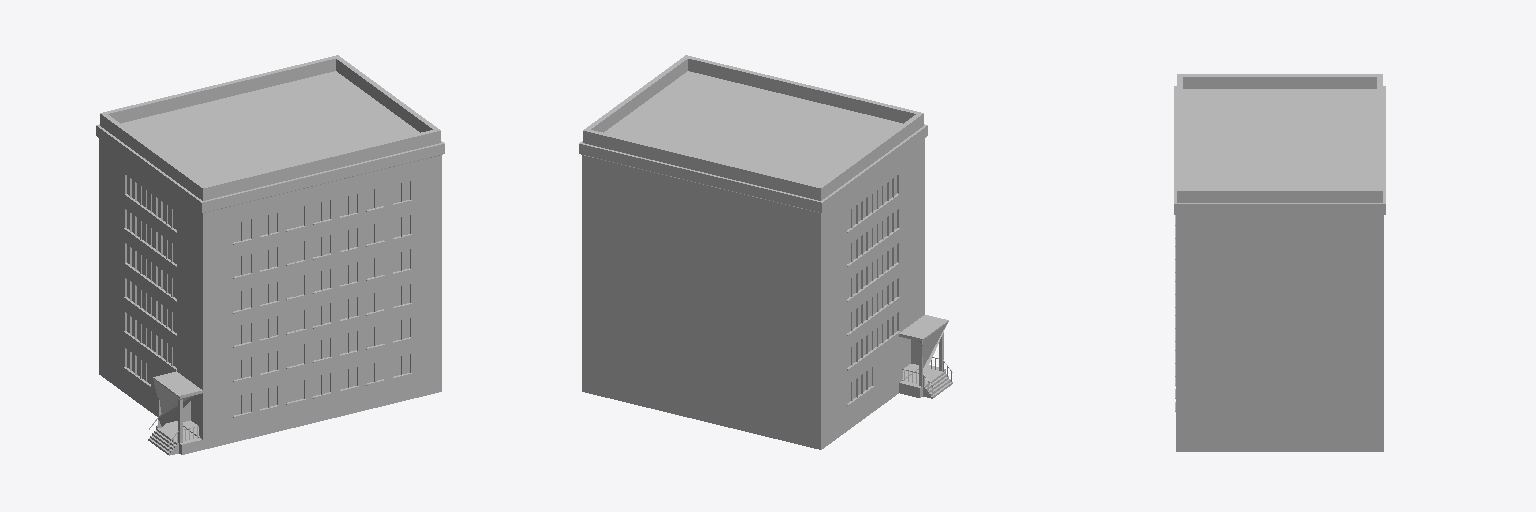
The model's file is house.obj.
The picture shows the model from 3 angles: view 1: azimuth 30°, elevation 25°; view 2: azimuth 150°, elevation 25°; view 3: azimuth 270°, elevation 25°; orthographic projection.
Visible parts, largest first — view 1: usaBuilding31; view 2: usaBuilding31; view 3: usaBuilding31.
Part boxes in pixels (x1,y1,x2,y2): usaBuilding31: (96,55,444,455); usaBuilding31: (579,55,952,449); usaBuilding31: (1174,74,1385,451).
Size of the model in its own units: 15.46 by 14.18 by 10.42.